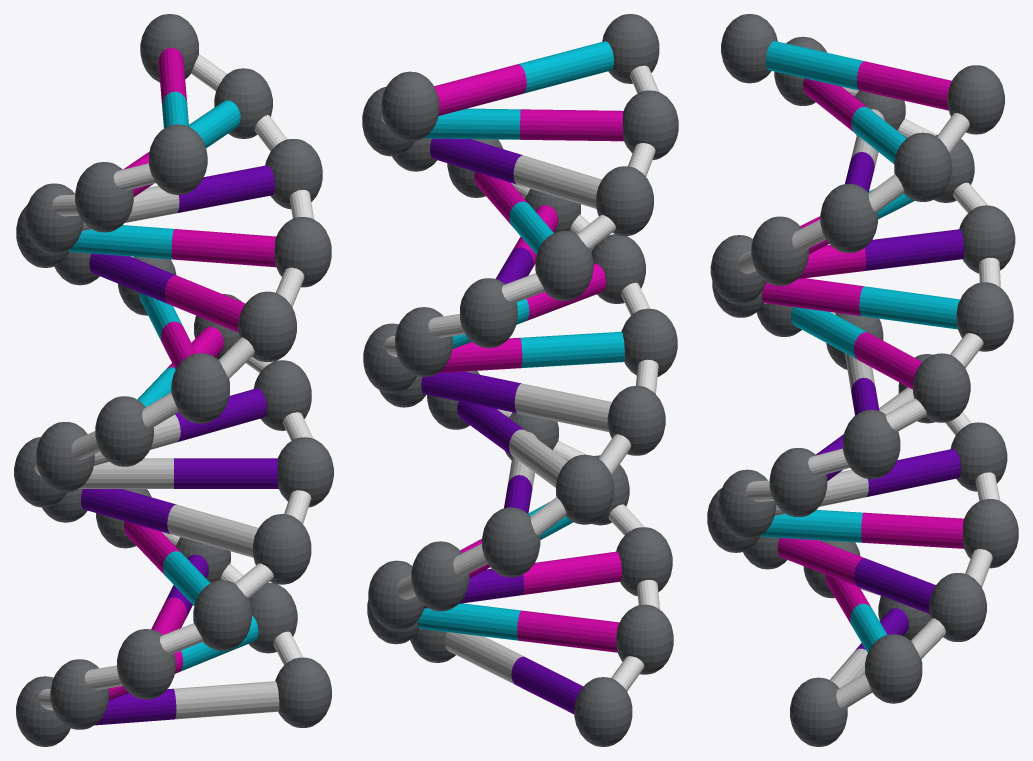
The model's file is DNAmutation.glb.
3 views of the same model, side by side, from view 1: azimuth 30°, elevation 25°; view 2: azimuth 150°, elevation 25°; view 3: azimuth 270°, elevation 25° (orthographic).
Parts seen in each view (by area): view 1: Mesh_Mesh_head_geo.001_lambert2SG.001; view 2: Mesh_Mesh_head_geo.001_lambert2SG.001; view 3: Mesh_Mesh_head_geo.001_lambert2SG.001.
Part boxes in pixels (x1,y1,x2,y2): Mesh_Mesh_head_geo.001_lambert2SG.001: (14, 14, 333, 746); Mesh_Mesh_head_geo.001_lambert2SG.001: (362, 14, 678, 746); Mesh_Mesh_head_geo.001_lambert2SG.001: (707, 14, 1018, 746).
Size of the model in its own units: 75.48 by 173 by 74.96.
